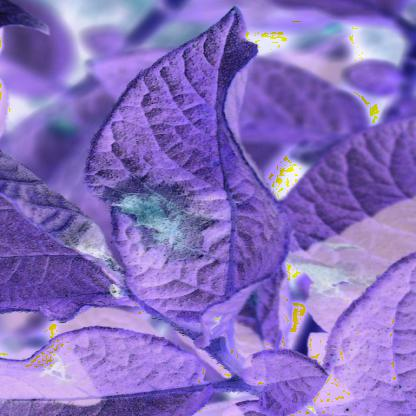potato leaf early blight: (81, 5, 297, 341)
